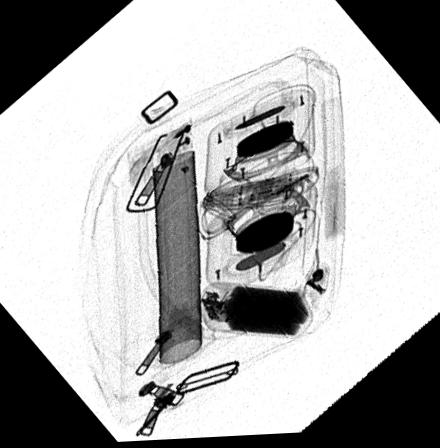Powerbank: (195, 285, 314, 340)
